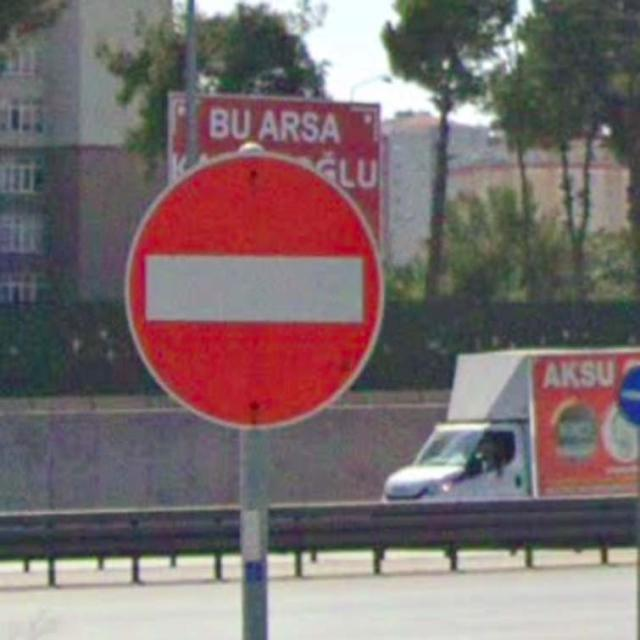girisyok: (122, 152, 382, 426)
